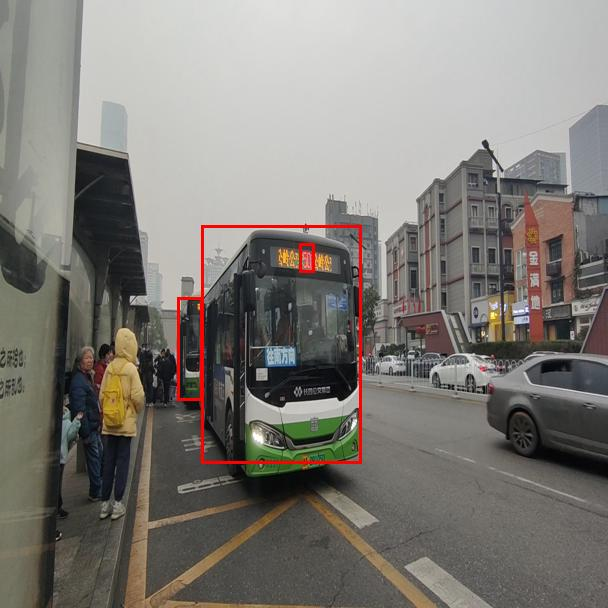bus: (201, 225, 361, 463), (177, 297, 202, 400)
screen: (299, 243, 314, 272)
